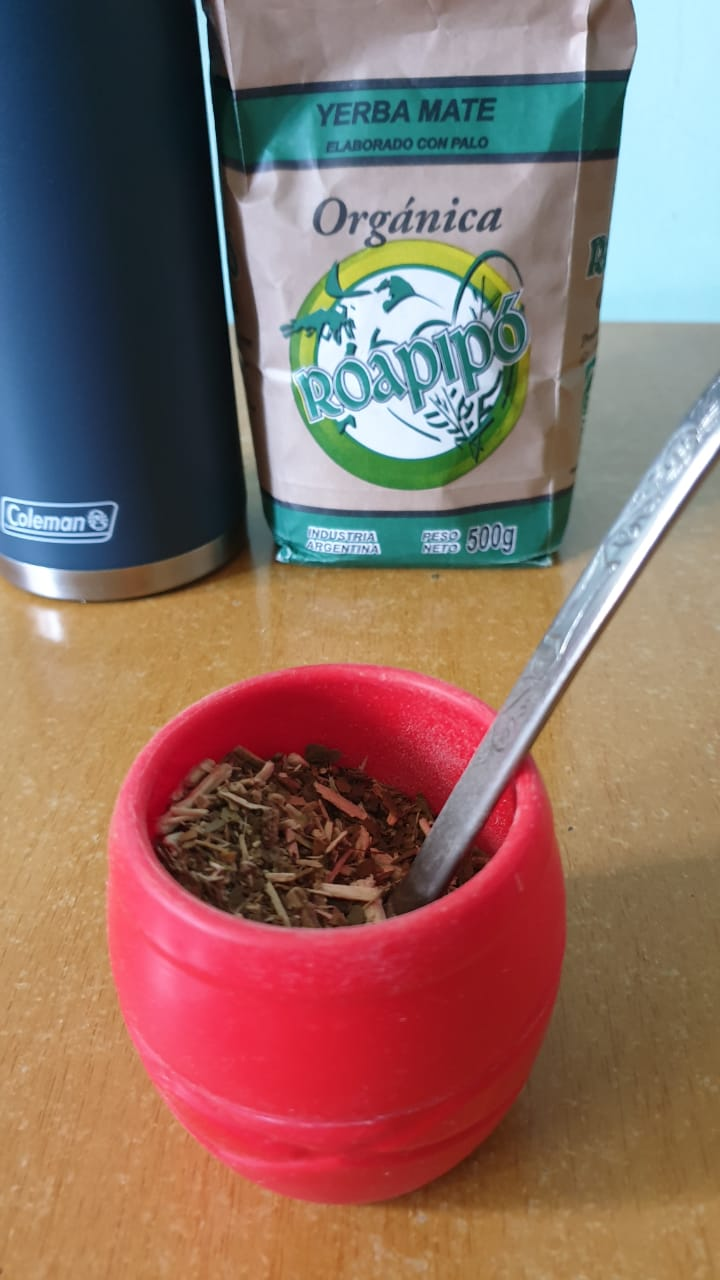mate: (85, 615, 597, 1223)
plastico: (101, 634, 579, 1229)
